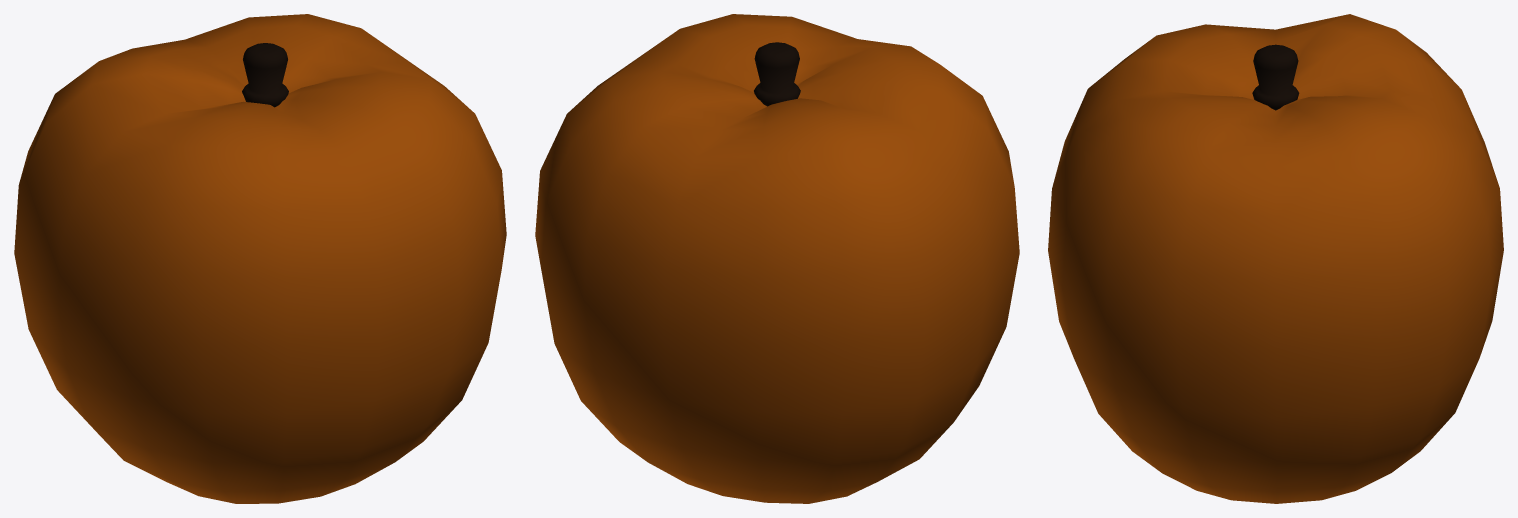
File: Nectarine.FBX
The picture shows the model from 3 angles, left to right: view 1: azimuth 30°, elevation 25°; view 2: azimuth 150°, elevation 25°; view 3: azimuth 270°, elevation 25°; orthographic projection.
Parts seen in each view (by area): view 1: Nectarine; view 2: Nectarine; view 3: Nectarine.
Part boxes in pixels (x1,y1,x2,y2): Nectarine: [14, 14, 506, 503]; Nectarine: [535, 14, 1019, 503]; Nectarine: [1048, 14, 1503, 503].
Bounding box in the file's own units: 1070 × 1022 × 1055.
